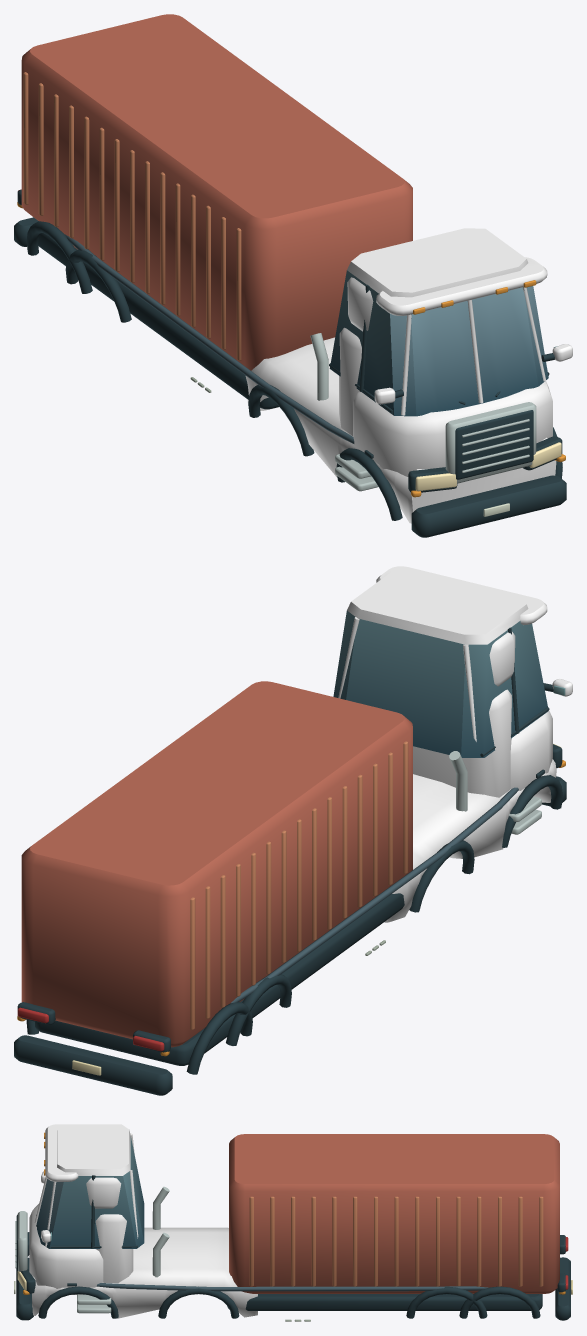
The model's file is container.glb.
3 renders of one model, top to bottom at view 1: azimuth 30°, elevation 25°; view 2: azimuth 150°, elevation 25°; view 3: azimuth 270°, elevation 25°, orthographic. The views are drawn at different scales.
Parts seen in each view (by area): view 1: Chassis, Headlamps; view 2: Chassis; view 3: Chassis.
Boxes of the visible parts, bbox=[...] form: Chassis: bbox=[14, 14, 572, 537]; Headlamps: bbox=[415, 442, 561, 491]; Chassis: bbox=[14, 566, 572, 1095]; Chassis: bbox=[14, 1124, 572, 1321].
Size of the model in its own units: 2.23 by 2.41 by 8.11.
